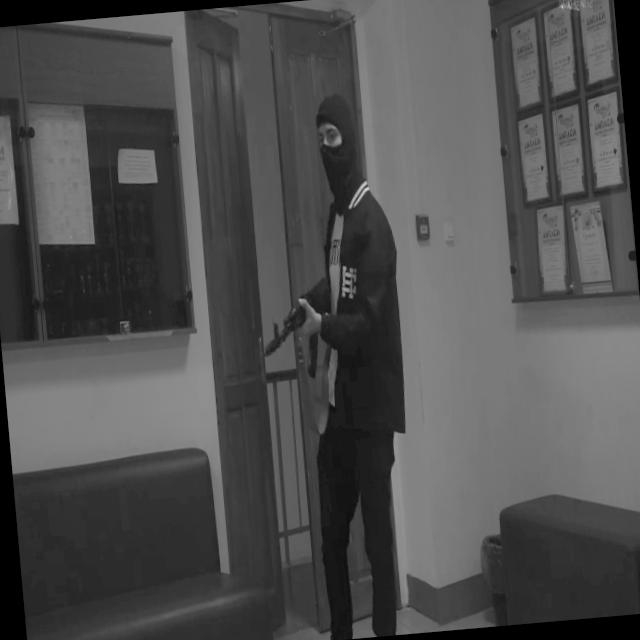gun: (256, 274, 342, 384)
person with a gun: (240, 90, 429, 640)
